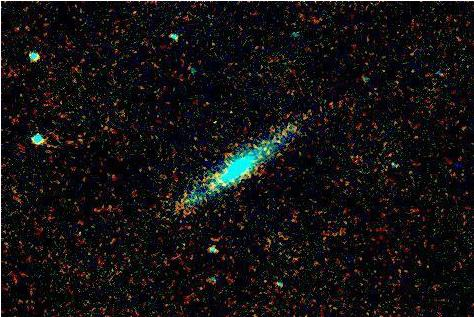star: (200, 156, 230, 186)
